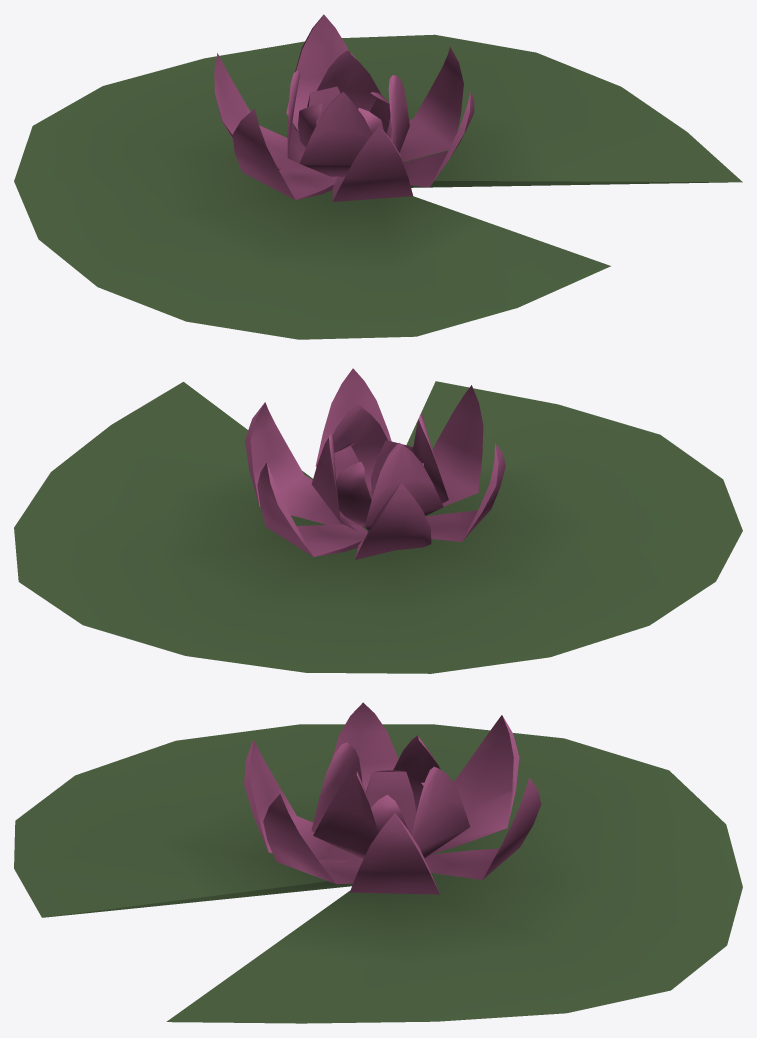
File: plant_lilypad_1.glb
3 renders of one model, top to bottom at view 1: azimuth 30°, elevation 25°; view 2: azimuth 150°, elevation 25°; view 3: azimuth 270°, elevation 25°, orthographic. The views are drawn at different scales.
Visible parts, largest first — view 1: refined; view 2: refined; view 3: refined.
Part boxes in pixels (x1,y1,x2,y2): refined: [14, 14, 742, 339]; refined: [14, 368, 742, 673]; refined: [14, 702, 742, 1023].
Bounding box in the file's own units: 1.1 × 0.2029 × 1.09.
